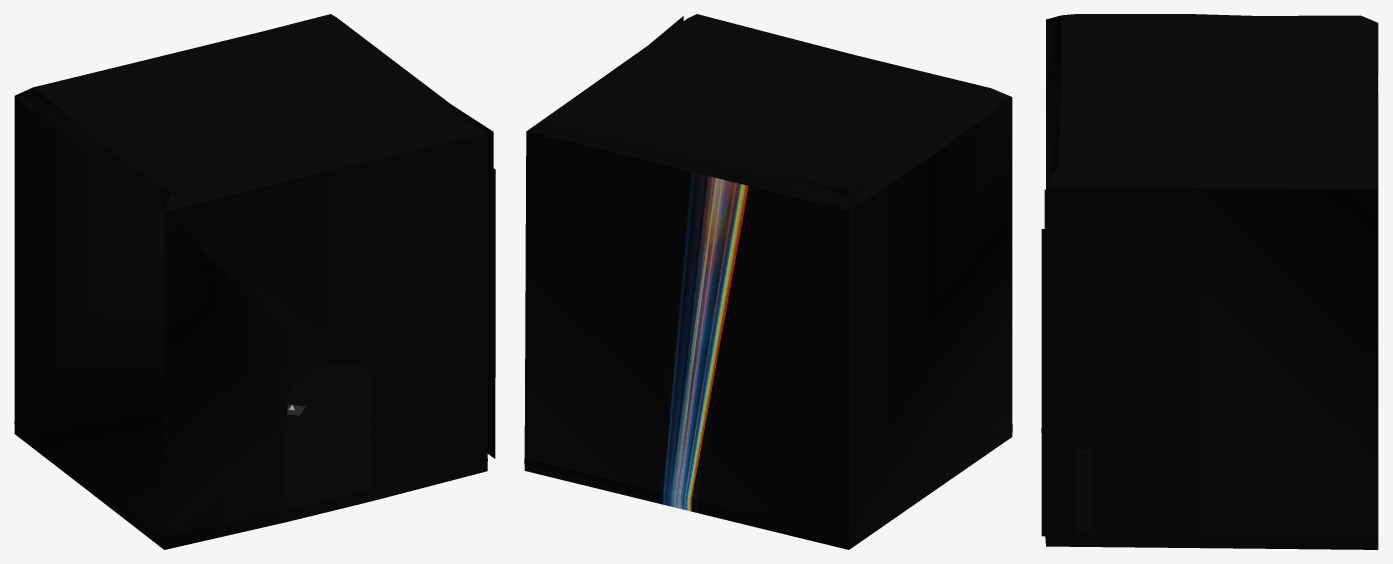
File: project12.glb
The picture shows the model from 3 angles, left to right: view 1: azimuth 30°, elevation 25°; view 2: azimuth 150°, elevation 25°; view 3: azimuth 270°, elevation 25°; orthographic projection. The views are drawn at different scales.
Parts seen in each view (by area): view 1: festék - titánfehér.001; view 2: festék - titánfehér.001; view 3: festék - titánfehér.001.
Boxes of the visible parts, bbox=[...] form: festék - titánfehér.001: bbox=[14, 14, 495, 549]; festék - titánfehér.001: bbox=[524, 14, 1012, 549]; festék - titánfehér.001: bbox=[1041, 14, 1378, 549].
Size of the model in its own units: 8.86 by 8.98 by 7.37.
